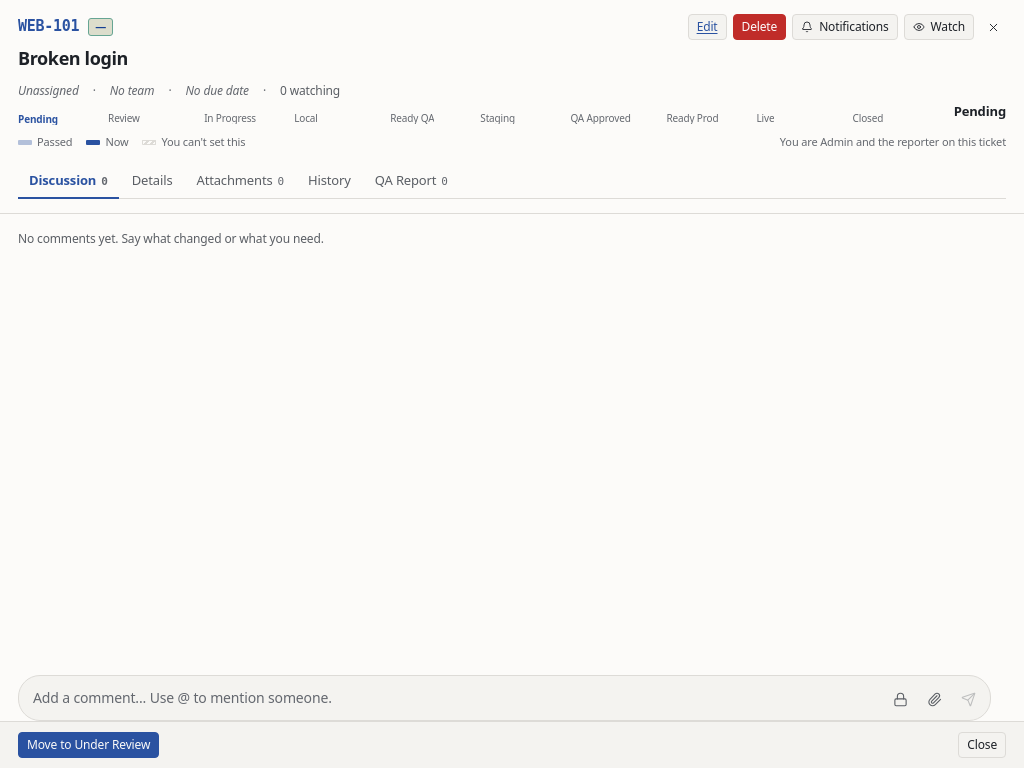
Scenario: TicketDetailDrawer › keeps metadata rail out of the discussion tab and shows it on details
expect the text "WEB-101" is shown: met, box 18,16 -> 79,38
expect the button named "attach" is shown: met, box 918,683 -> 950,715
Click the tab "Details".
click(152, 182)  # box 121,164 -> 184,199
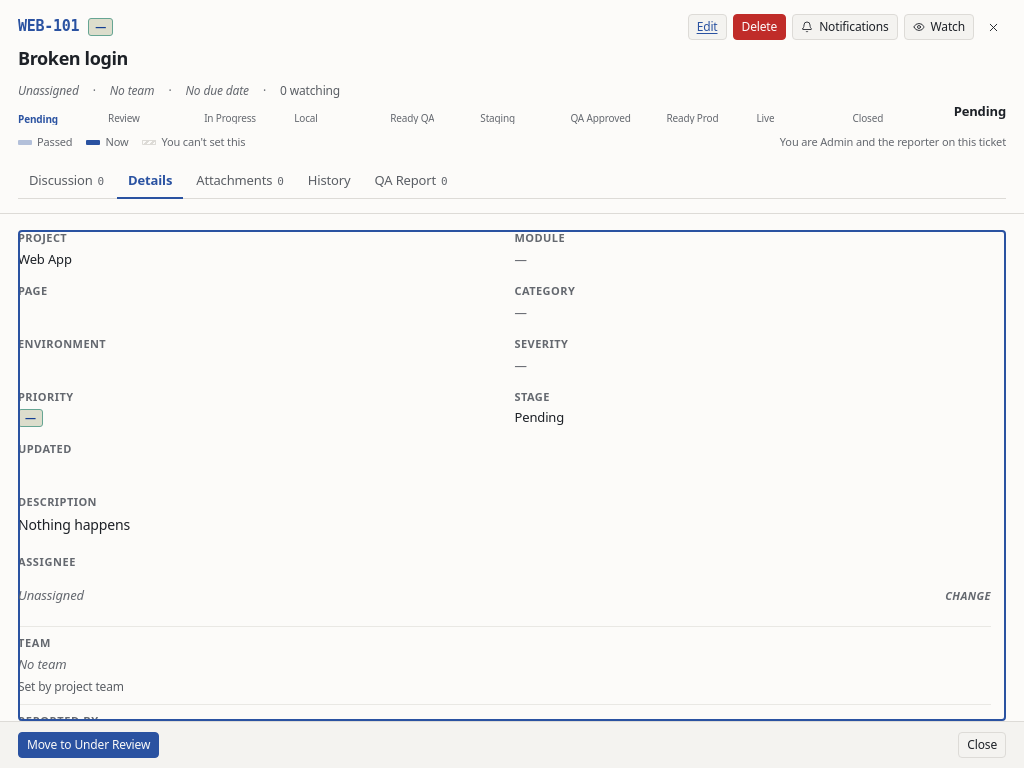
expect the text "Assignee" is shown: met, box 18,554 -> 76,569
